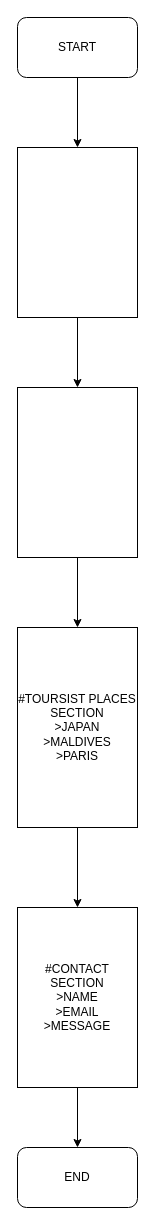
Image size: 155x1225. Some labels were removed from this diagram. Each missing label, with the centre of its shape:
"#HERO SECTION >HOME .DISCOVERING AMAZING DESTINATIONS" goes at point (77, 472).
"#NAVIGATION BAR TRAVELEXPLORER >HOME >TOURIST PLACES >CONTACT" goes at point (77, 232).
